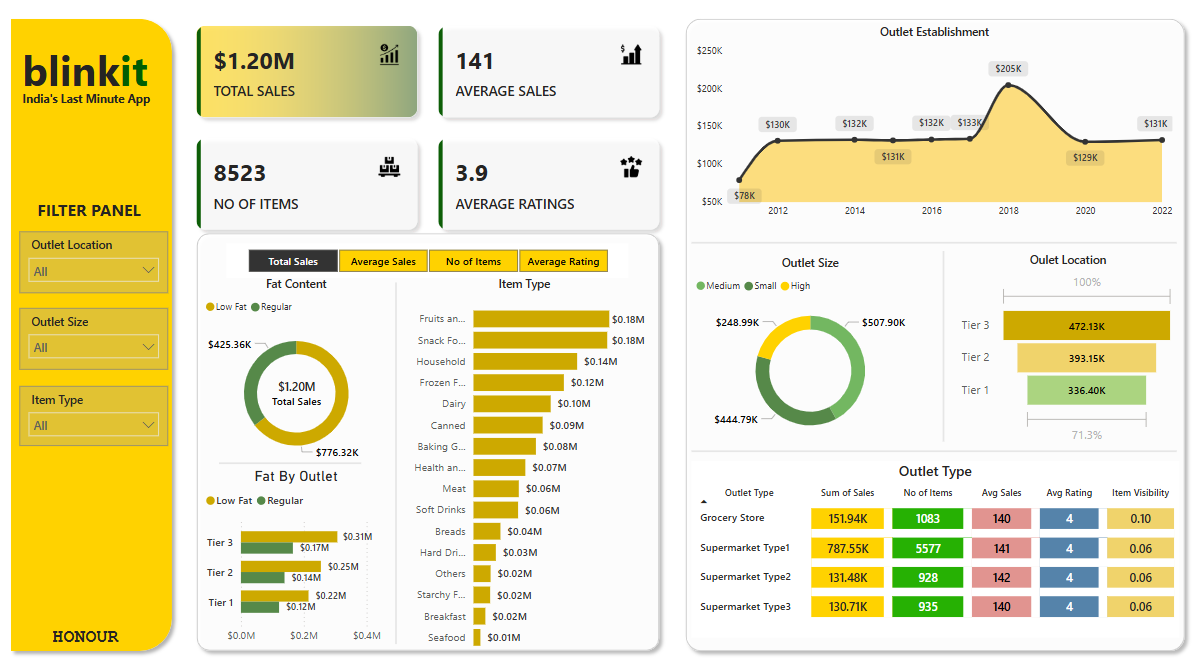

What the dashboard file says about the page in this screenshot:
{"tool":"powerbi","page":{"name":"Page 1","canvas":[1400,800],"ordinal":0},"visuals":[{"type":"shape","box":[14.5,24.8,204.6,750.3],"z":0},{"type":"textbox","box":[31,53.7,171.6,78.5],"z":1000},{"type":"textbox","box":[31,111.6,171.6,35.1],"z":2000},{"type":"cardVisual","fields":{"Data":["BlinkIT Grocery Data.Total Sales","BlinkIT Grocery Data.Average Sales","BlinkIT Grocery Data.No of Items","BlinkIT Grocery Data.Average Rating"]},"box":[220,24,570.8,270.1],"z":3000},{"type":"shape","box":[228.7,272.3,553.3,501],"z":4000},{"type":"donutChart","title":"Fat Content","fields":{"Y":["BlinkIT Grocery Data.Total Sales"],"Category":["BlinkIT Grocery Data.Item Fat Content"]},"box":[243.1,330,220.6,229.2],"z":5000},{"type":"slicer","fields":{"Values":["Metrics.Metrics"]},"box":[272.7,293.5,465.4,39.9],"z":6000},{"type":"cardVisual","fields":{"Data":["BlinkIT Grocery Data.Total Sales"]},"box":[281.3,399.4,145.9,135.5],"z":7000},{"type":"clusteredBarChart","title":"Fat By Outlet","fields":{"Y":["BlinkIT Grocery Data.Total Sales"],"Category":["BlinkIT Grocery Data.Outlet Location Type"],"Series":["BlinkIT Grocery Data.Item Fat Content"]},"box":[243.1,552.3,220.6,213],"z":8000},{"type":"shape","box":[264,526.2,165,43.4],"z":9000},{"type":"shape","box":[448.1,338.6,41.7,418.5],"z":10000},{"type":"barChart","title":"Item Type","fields":{"Y":["BlinkIT Grocery Data.Total Sales"],"Category":["BlinkIT Grocery Data.Item Type"]},"box":[472.4,330,290,444.6],"z":11000},{"type":"shape","box":[795.4,24.3,595.7,750.2],"z":12000},{"type":"lineChart","title":"Outlet Establishment","fields":{"Y":["BlinkIT Grocery Data.Total Sales"],"Category":["BlinkIT Grocery Data.Outlet Establishment Year"]},"box":[811,38.2,562.7,234.4],"z":13000},{"type":"shape","box":[811,270.9,562.7,43.4],"z":14000},{"type":"donutChart","title":"Outlet Size","fields":{"Y":["BlinkIT Grocery Data.Total Sales"],"Category":["BlinkIT Grocery Data.Outlet Size"]},"box":[811,305.7,275,225],"z":15000},{"type":"shape","box":[1081.9,302.2,41.7,220.6],"z":16000},{"type":"funnel","title":"Oulet Location","fields":{"Y":["BlinkIT Grocery Data.Sales"],"Category":["BlinkIT Grocery Data.Outlet Location Type"]},"box":[1118.4,302.2,257,229.2],"z":17000},{"type":"shape","box":[811,512.3,562.7,43.4],"z":18000},{"type":"pivotTable","title":"Outlet Type","fields":{"Rows":["BlinkIT Grocery Data.Outlet Type"],"Values":["BlinkIT Grocery Data.Sales","BlinkIT Grocery Data.No of Items","BlinkIT Grocery Data.Average Sales","BlinkIT Grocery Data.Average Rating","BlinkIT Grocery Data.Item Visibility"]},"box":[811,545.3,564.4,204.9],"z":19000},{"type":"slicer","fields":{"Values":["BlinkIT Grocery Data.Outlet Location Type"]},"box":[33,279.6,171.9,71.2],"z":20000},{"type":"slicer","fields":{"Values":["BlinkIT Grocery Data.Outlet Size"]},"box":[33,368.2,171.9,71.2],"z":21000},{"type":"slicer","fields":{"Values":["BlinkIT Grocery Data.Item Type"]},"box":[33,458.5,171.9,69.5],"z":22000},{"type":"textbox","box":[48.6,236.2,142.4,45.2],"z":23000},{"type":"textbox","box":[66,731.1,102.5,38.2],"z":23002}]}

Visuals, with their boxes in screenshot pixels (x1, y1, x2, y2), scaled from the page's 1400x800 canvas onto the 1196x665 screenshot:
shape: pyautogui.locateOnScreen(12, 21, 187, 644)
textbox: pyautogui.locateOnScreen(26, 45, 173, 110)
textbox: pyautogui.locateOnScreen(26, 93, 173, 122)
cardVisual - BlinkIT Grocery Data.Total Sales x BlinkIT Grocery Data.Average Sales: pyautogui.locateOnScreen(188, 20, 676, 244)
shape: pyautogui.locateOnScreen(195, 226, 668, 643)
"Fat Content" donutChart: pyautogui.locateOnScreen(208, 274, 396, 465)
slicer - Metrics.Metrics: pyautogui.locateOnScreen(233, 244, 631, 277)
cardVisual - BlinkIT Grocery Data.Total Sales: pyautogui.locateOnScreen(240, 332, 365, 445)
"Fat By Outlet" clusteredBarChart: pyautogui.locateOnScreen(208, 459, 396, 636)
shape: pyautogui.locateOnScreen(226, 437, 366, 473)
shape: pyautogui.locateOnScreen(383, 281, 418, 629)
"Item Type" barChart: pyautogui.locateOnScreen(404, 274, 651, 644)
shape: pyautogui.locateOnScreen(679, 20, 1188, 644)
"Outlet Establishment" lineChart: pyautogui.locateOnScreen(693, 32, 1174, 227)
shape: pyautogui.locateOnScreen(693, 225, 1174, 261)
"Outlet Size" donutChart: pyautogui.locateOnScreen(693, 254, 928, 441)
shape: pyautogui.locateOnScreen(924, 251, 960, 435)
"Oulet Location" funnel: pyautogui.locateOnScreen(955, 251, 1175, 442)
shape: pyautogui.locateOnScreen(693, 426, 1174, 462)
"Outlet Type" pivotTable: pyautogui.locateOnScreen(693, 453, 1175, 624)
slicer - BlinkIT Grocery Data.Outlet Location Type: pyautogui.locateOnScreen(28, 232, 175, 292)
slicer - BlinkIT Grocery Data.Outlet Size: pyautogui.locateOnScreen(28, 306, 175, 365)
slicer - BlinkIT Grocery Data.Item Type: pyautogui.locateOnScreen(28, 381, 175, 439)
textbox: pyautogui.locateOnScreen(42, 196, 163, 234)
textbox: pyautogui.locateOnScreen(56, 608, 144, 639)
